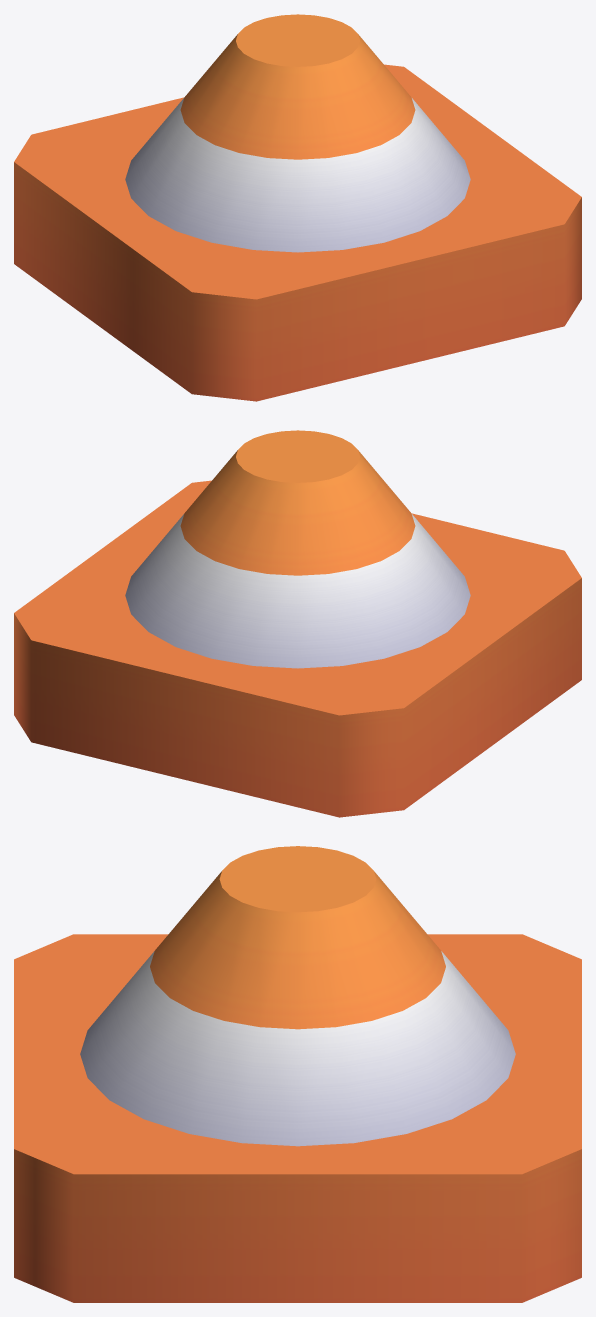
The picture shows the model from 3 angles, top to bottom: view 1: azimuth 30°, elevation 25°; view 2: azimuth 150°, elevation 25°; view 3: azimuth 270°, elevation 25°; orthographic projection. The views are drawn at different scales.
Visible parts, largest first — view 1: cone-flat; view 2: cone-flat; view 3: cone-flat.
Boxes of the visible parts, x1,y1,x2,y2 form: cone-flat: [14, 14, 581, 401]; cone-flat: [14, 430, 581, 817]; cone-flat: [14, 846, 581, 1302].
Bounding box in the file's own units: 0.4762 × 0.281 × 0.4762.
Materials: 1 (1 with a texture image).
